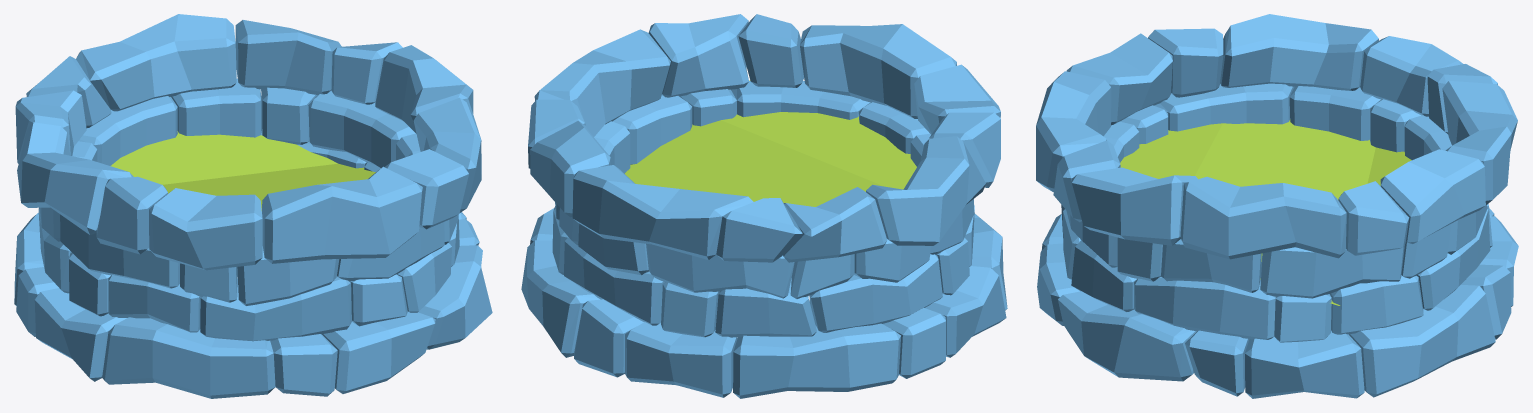
The model's file is ENV_well_color.fbx.
3 views of the same model, side by side, from view 1: azimuth 30°, elevation 25°; view 2: azimuth 150°, elevation 25°; view 3: azimuth 270°, elevation 25° (orthographic).
Parts seen in each view (by area): view 1: Plane; view 2: Plane; view 3: Plane.
Boxes of the visible parts, x1,y1,x2,y2 form: Plane: [14, 14, 492, 398]; Plane: [521, 14, 1007, 398]; Plane: [1036, 14, 1518, 398].
Bounding box in the file's own units: 324 × 327 × 155.
